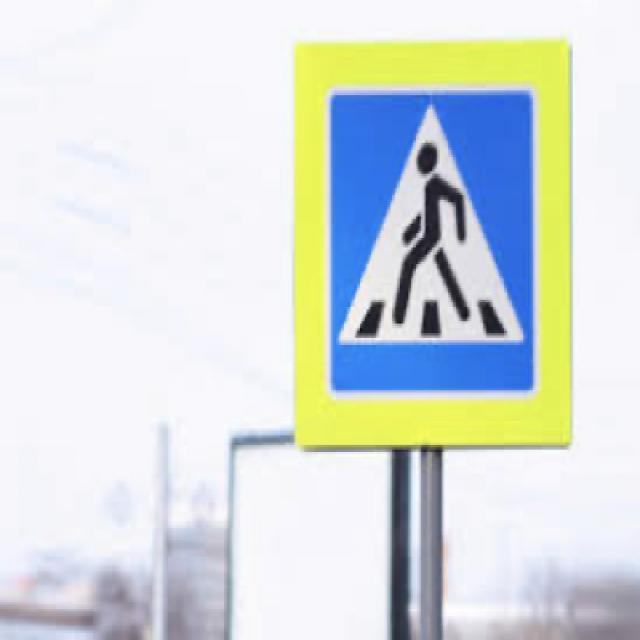crosswalk_sign: (324, 80, 539, 400)
